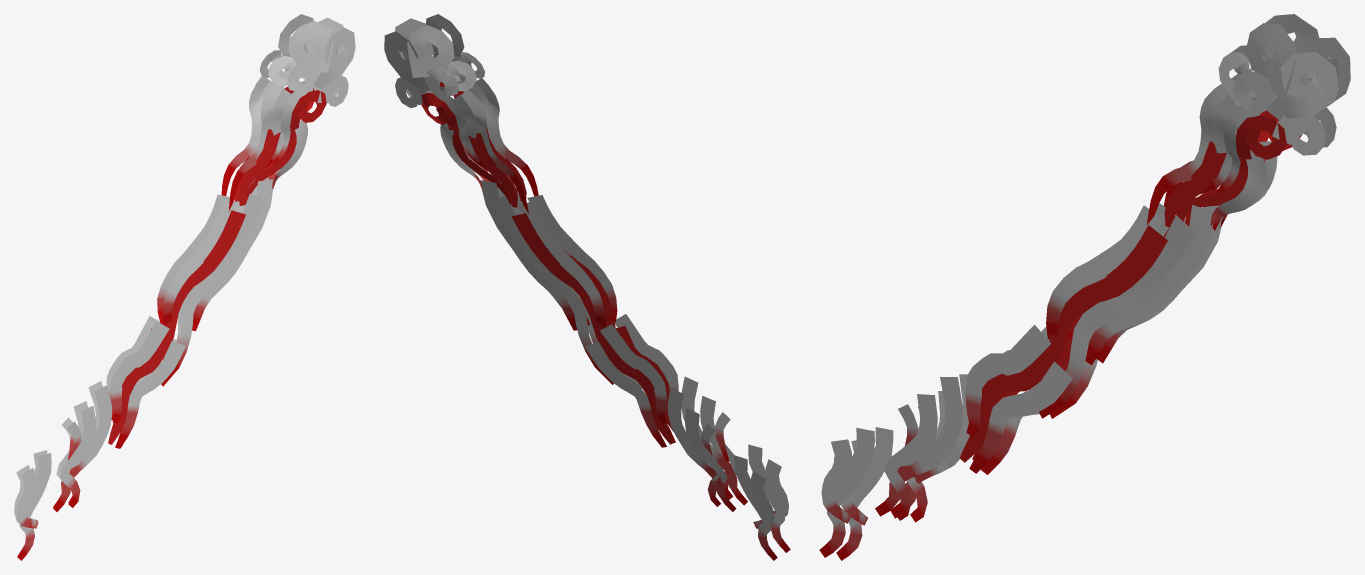
File: Mesh_player02_sw3.FBX
The picture shows the model from 3 angles, left to right: view 1: azimuth 30°, elevation 25°; view 2: azimuth 150°, elevation 25°; view 3: azimuth 330°, elevation 25°; orthographic projection. The views are drawn at different scales.
Visible parts, largest first — view 1: Mesh_player02_sw3; view 2: Mesh_player02_sw3; view 3: Mesh_player02_sw3.
Boxes of the visible parts, left/top/right/bottom form: Mesh_player02_sw3: left=14, top=14, right=355, bottom=560; Mesh_player02_sw3: left=384, top=14, right=790, bottom=560; Mesh_player02_sw3: left=819, top=14, right=1350, bottom=560.
Size of the model in its own units: 81.68 by 99.19 by 13.57.
